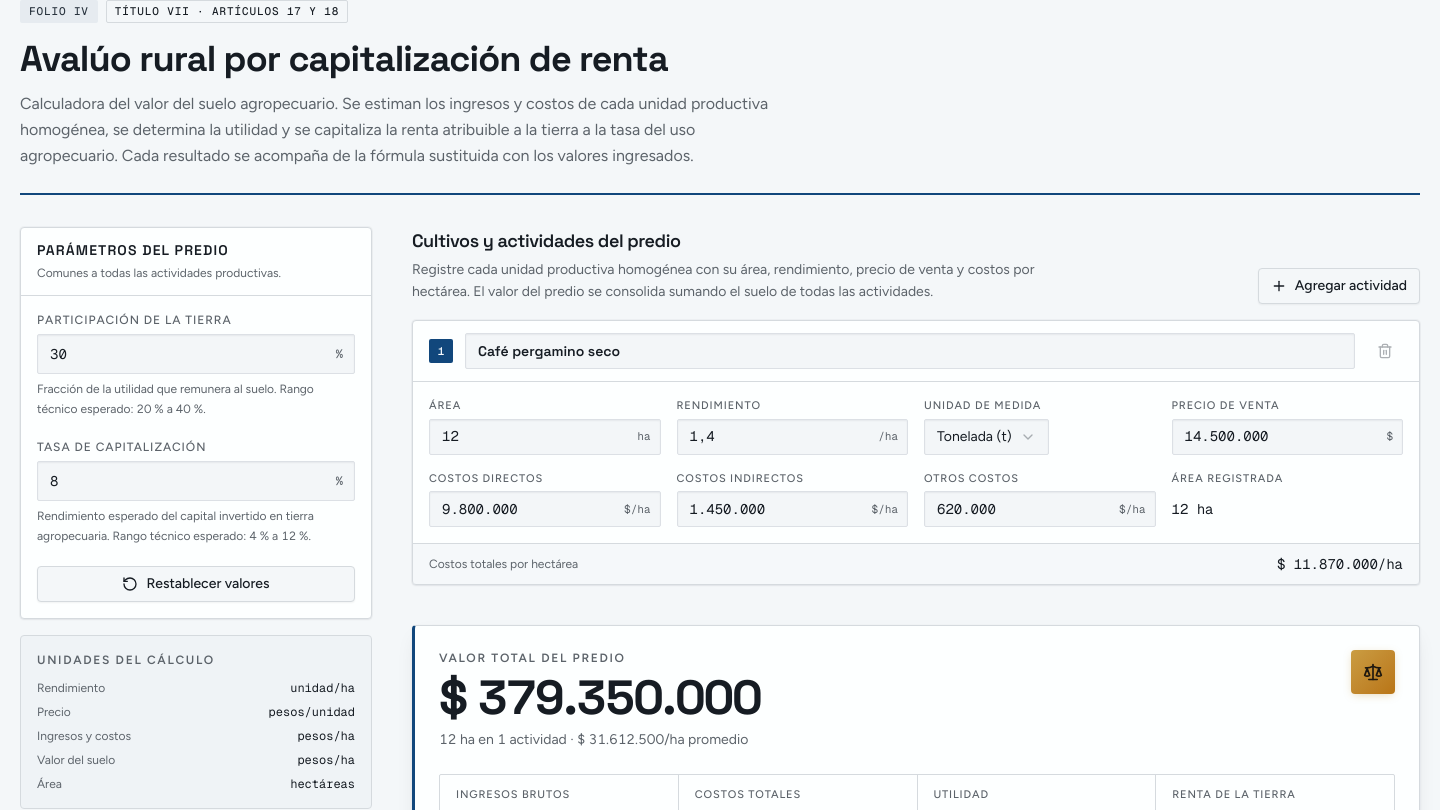
Test: AvaluoRuralPage › interpreta la coma decimal digitada en un campo rural
Step 1. Replace the text in the field with test id "rural.cultivo.rendimiento_input.1" with "2,5" → (792, 436), box [676,418,908,454]
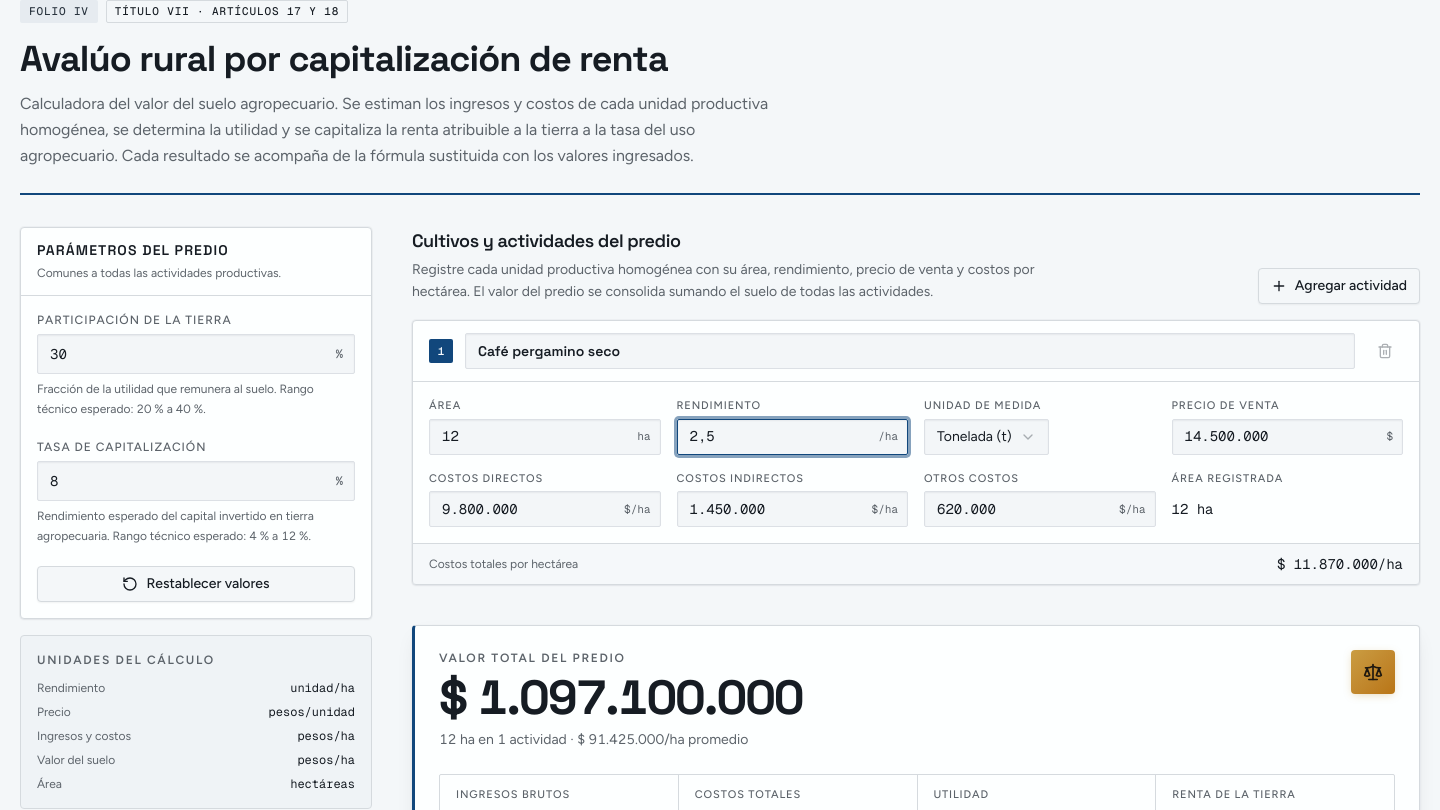
Expected: the text "$ 1.097.100.000" is shown, [439,674,803,722]
